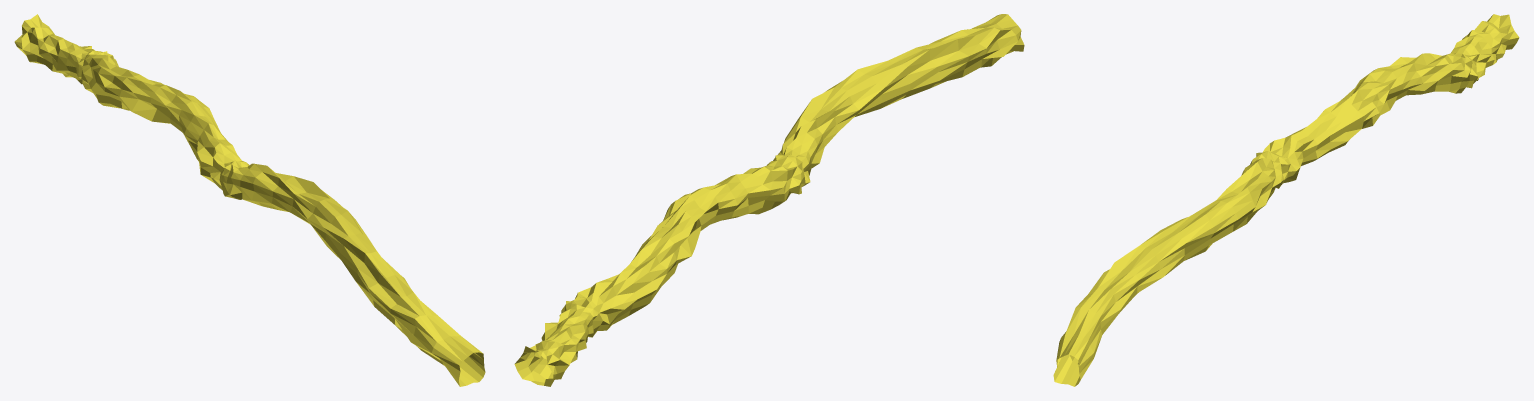
File: Cave_Easy_2.fbx
3 views of the same model, side by side, from view 1: azimuth 30°, elevation 25°; view 2: azimuth 150°, elevation 25°; view 3: azimuth 330°, elevation 25° (orthographic). The views are drawn at different scales.
Parts seen in each view (by area): view 1: Cube; view 2: Cube; view 3: Cube.
Part boxes in pixels (<box>): Cube: <box>14,14,485,386</box>; Cube: <box>514,14,1024,386</box>; Cube: <box>1053,14,1519,386</box>.
Bounding box in the file's own units: 349 × 4448 × 454.
